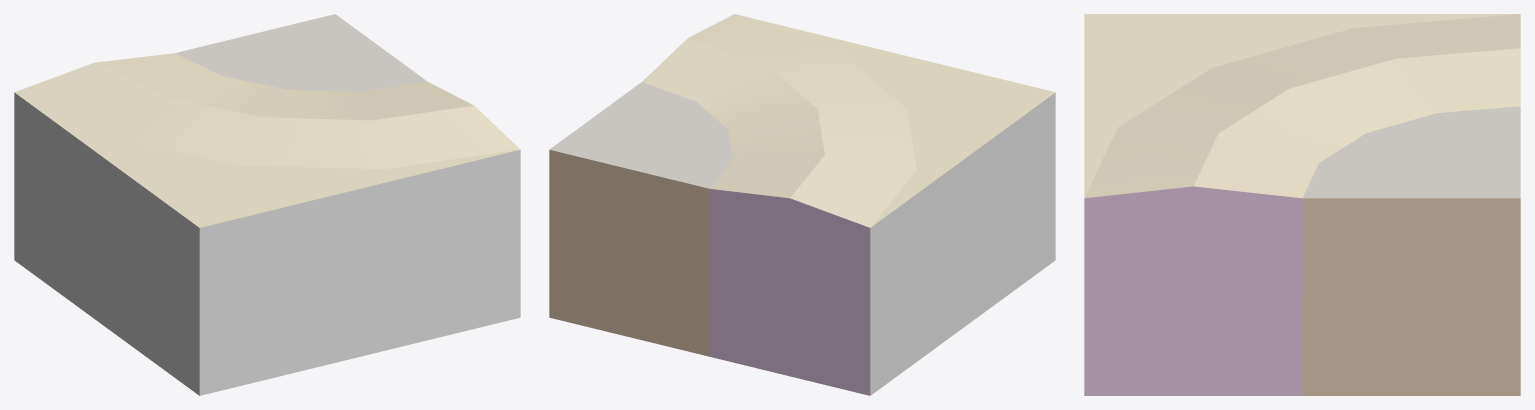
Rendered from Tiered_Walkway_Path_Transition_Curve_Inner_2x2.glb.
3 renders of one model, left to right at view 1: azimuth 30°, elevation 25°; view 2: azimuth 150°, elevation 25°; view 3: azimuth 270°, elevation 25°, orthographic. The views are drawn at different scales.
Visible parts, largest first — view 1: Tiered_Walkway_Path_Transition_Curve_Inner_2x2; view 2: Tiered_Walkway_Path_Transition_Curve_Inner_2x2; view 3: Tiered_Walkway_Path_Transition_Curve_Inner_2x2.
Boxes of the visible parts, <box> form: Tiered_Walkway_Path_Transition_Curve_Inner_2x2: <box>14,14,520,395</box>; Tiered_Walkway_Path_Transition_Curve_Inner_2x2: <box>549,14,1055,395</box>; Tiered_Walkway_Path_Transition_Curve_Inner_2x2: <box>1084,14,1520,395</box>.
Size of the model in its own units: 200 by 106 by 200.
